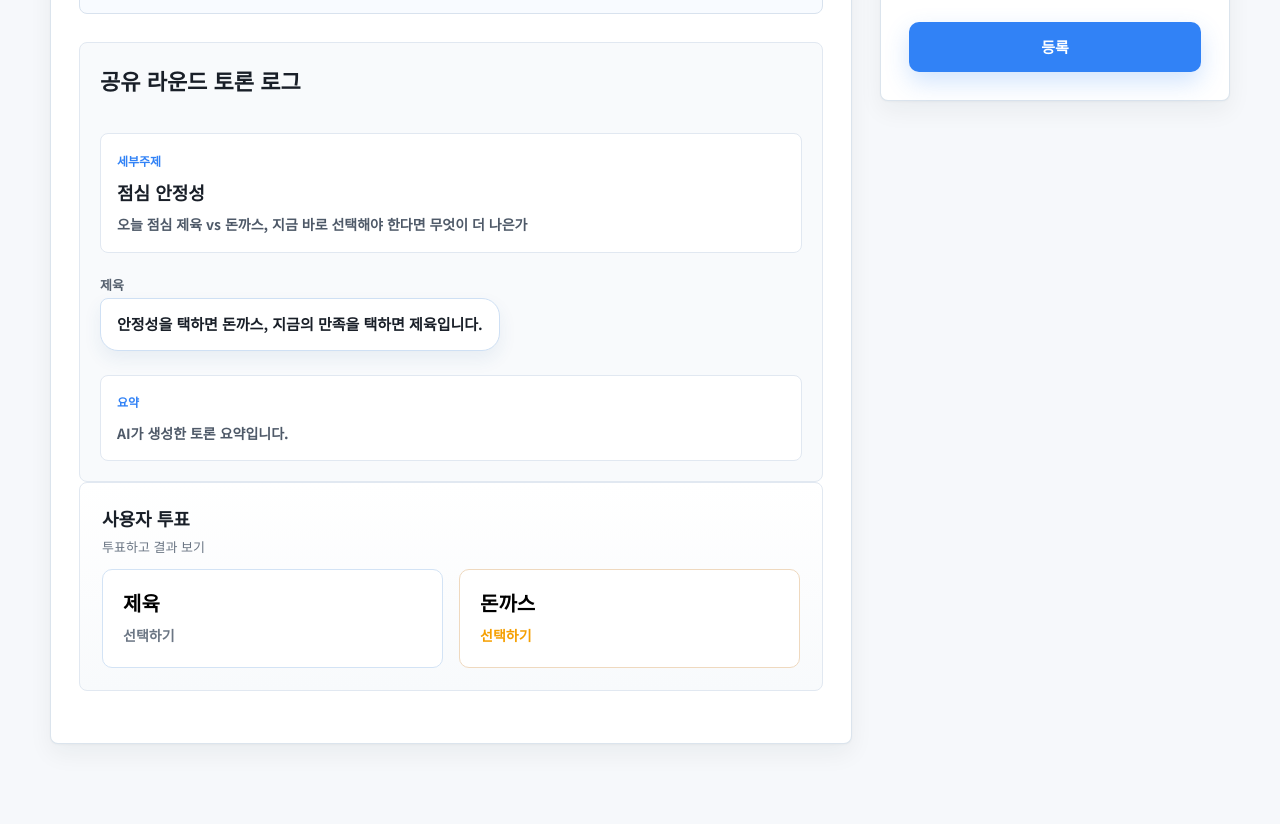
Test: PostDetailView › shows the selected vote and allows changing it
The width and height of the screenshot is (1280, 824).
(page scrolled)
What coordinates should you click on to do the following:
click the button "제육 선택하기"
I would click on:
 (141, 603)
Its box is x1=102 y1=569 x2=443 y2=668.
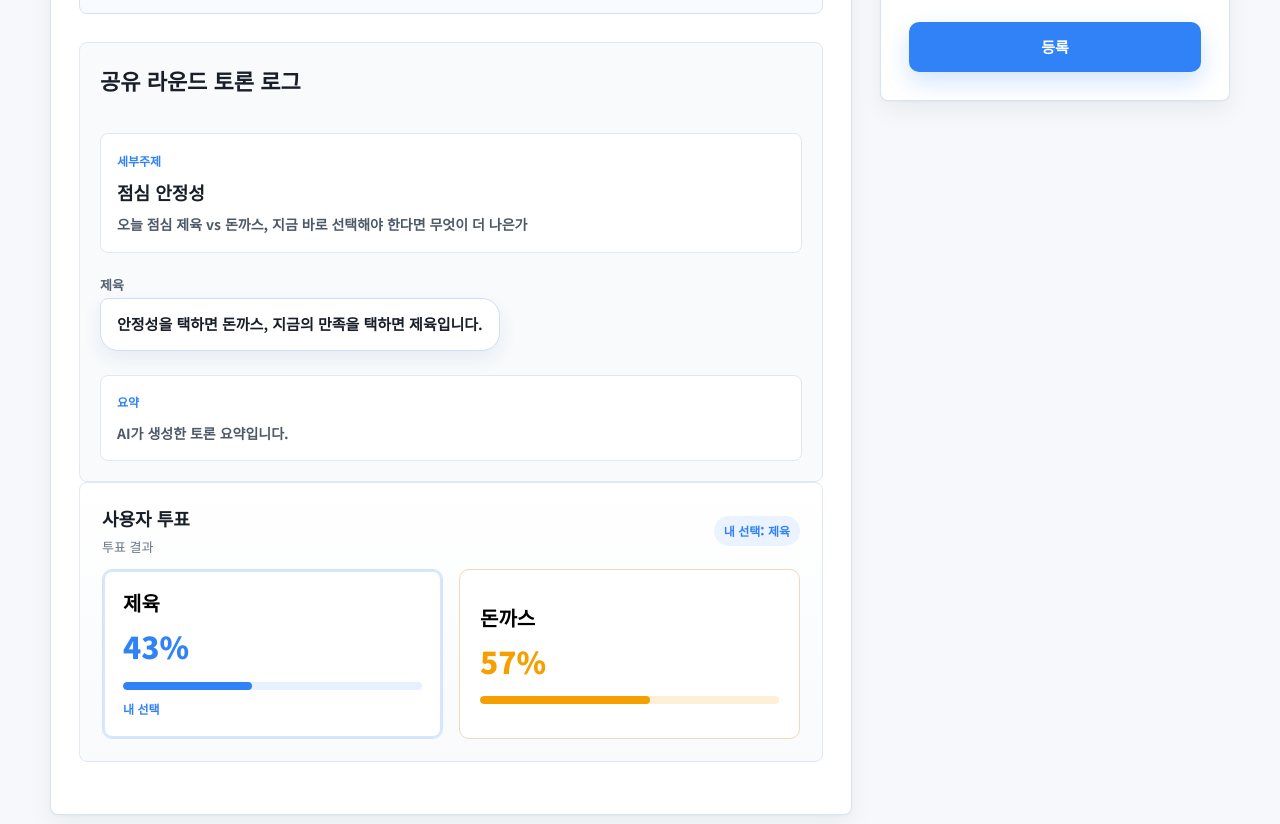
Expected: the text "내 선택: 제육" is shown, x1=714 y1=516 x2=800 y2=546
Expected: the text "43%" is shown, x1=123 y1=624 x2=189 y2=668
Expected: the text "57%" is shown, x1=480 y1=639 x2=546 y2=683
What coordinates should you click on to do the following:
click the button "돈까스 57%"
I would click on:
 (508, 617)
Its box is x1=459 y1=569 x2=800 y2=740.
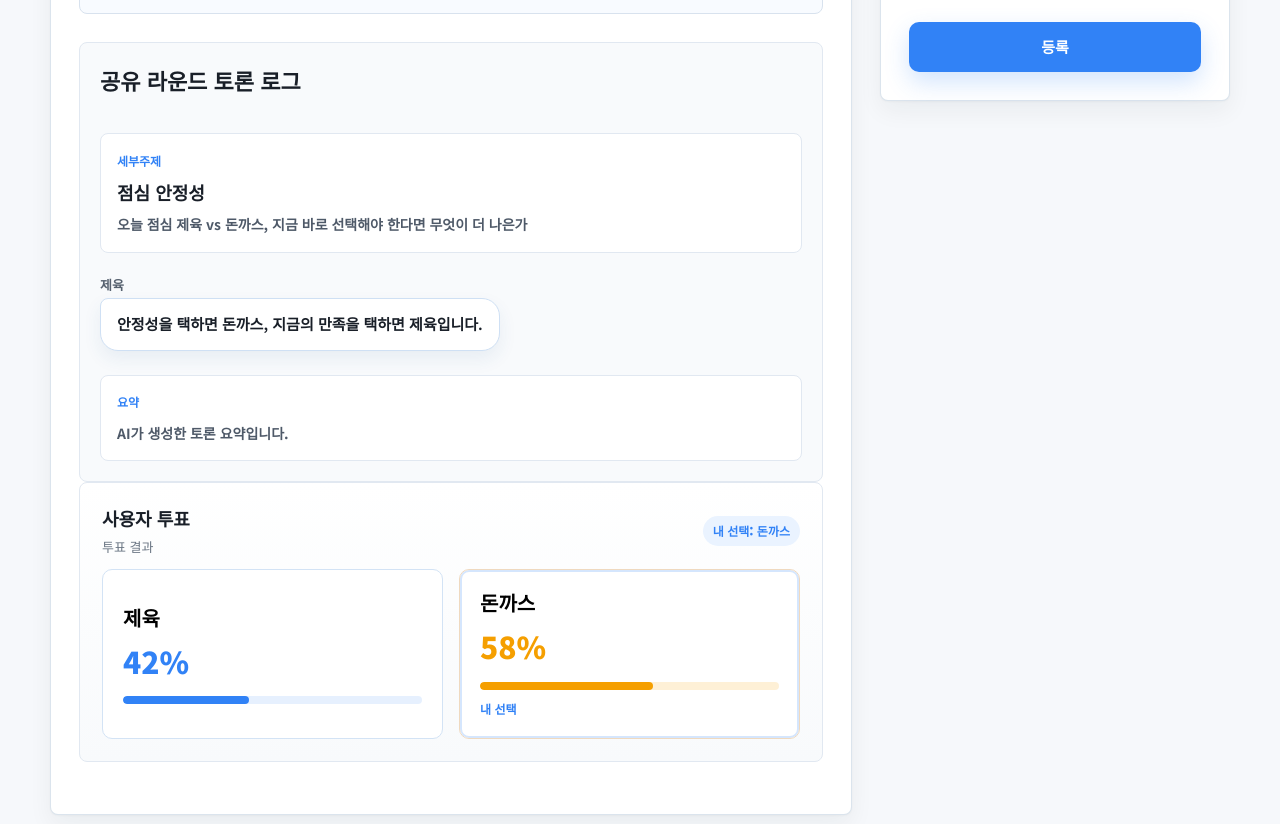
Expected: the text "내 선택: 돈까스" is shown, x1=703 y1=516 x2=800 y2=546
